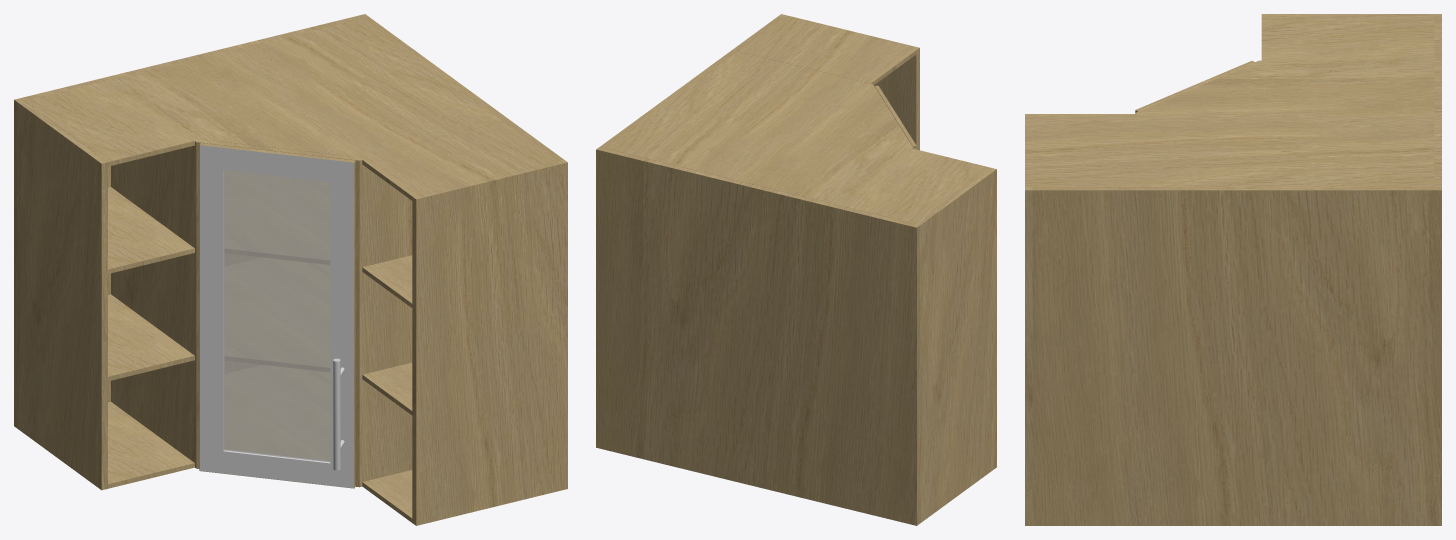
Rendered from sh_blend_swap_cc_0_uppercornercabinet.glb.
3 views of the same model, side by side, from view 1: azimuth 30°, elevation 25°; view 2: azimuth 150°, elevation 25°; view 3: azimuth 270°, elevation 25° (orthographic). The views are drawn at different scales.
Bounding box in the file's own units: 0.81 × 0.72 × 0.81.
6 materials, 3 textured.
